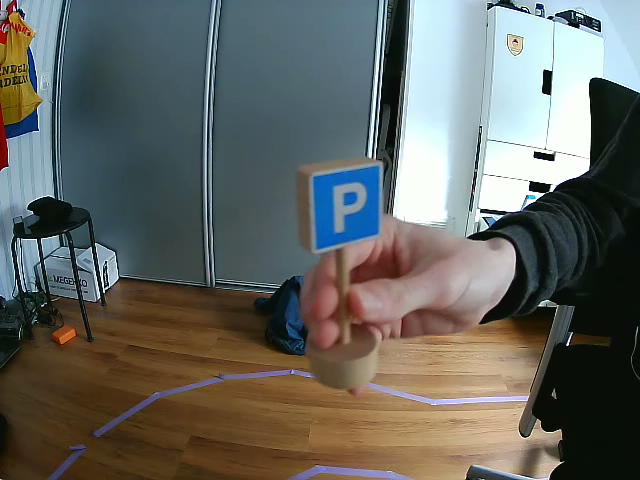parkeerbord: (302, 157, 382, 253)
